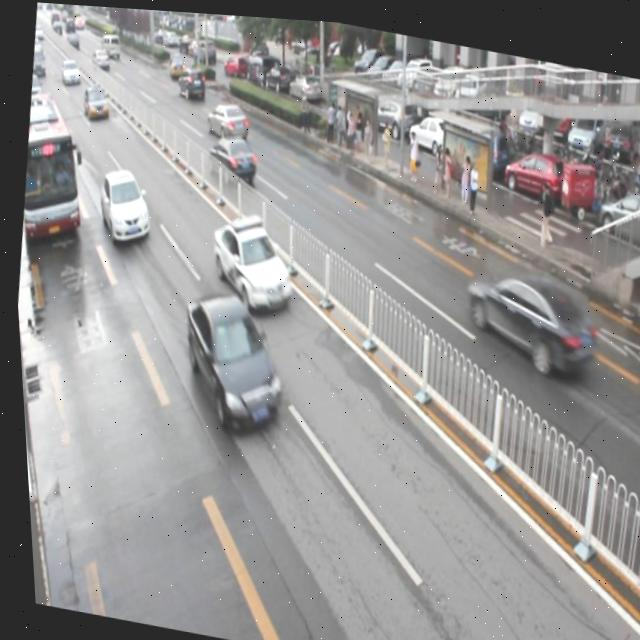car: (167, 283, 292, 435), (452, 254, 599, 375), (201, 203, 297, 314), (91, 164, 154, 248), (201, 126, 258, 183), (202, 95, 249, 140), (174, 61, 207, 102), (79, 80, 111, 121)
van: (13, 89, 95, 245)
